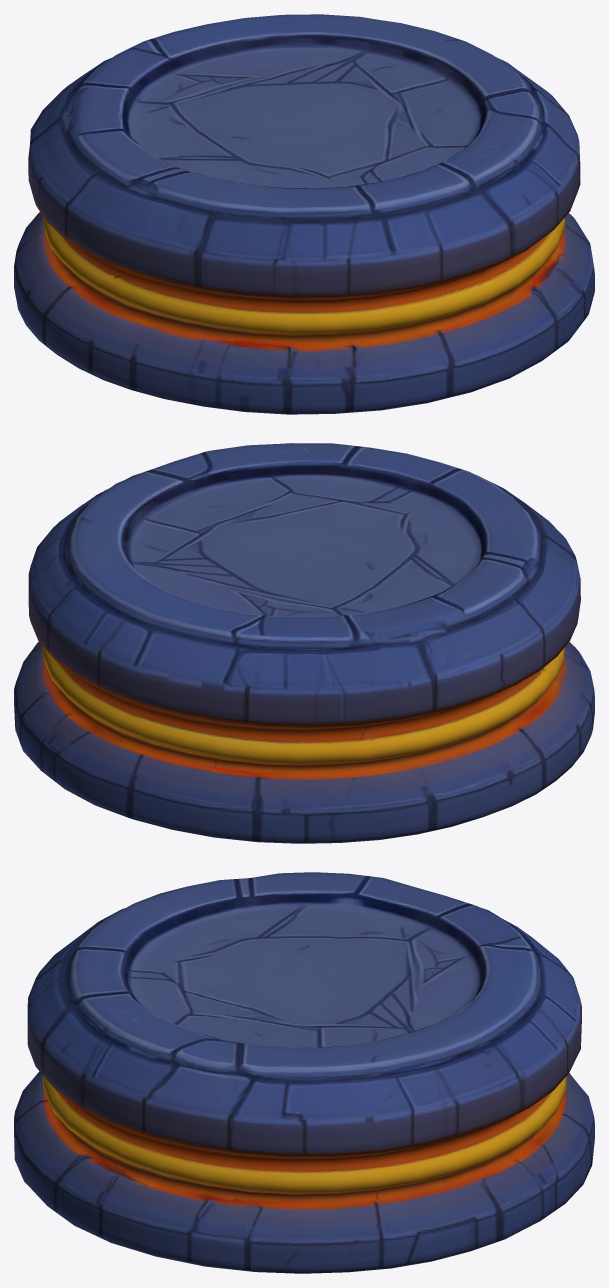
Rendered from plat_round_ROCK.obj.
The picture shows the model from 3 angles, top to bottom: view 1: azimuth 30°, elevation 25°; view 2: azimuth 150°, elevation 25°; view 3: azimuth 270°, elevation 25°; orthographic projection.
Visible parts, largest first — view 1: tripo_node_7f768d08-9728-4770-aa22-3355614af4c6; view 2: tripo_node_7f768d08-9728-4770-aa22-3355614af4c6; view 3: tripo_node_7f768d08-9728-4770-aa22-3355614af4c6.
Boxes of the visible parts, left/top/right/bottom form: tripo_node_7f768d08-9728-4770-aa22-3355614af4c6: left=14, top=14, right=594, bottom=414; tripo_node_7f768d08-9728-4770-aa22-3355614af4c6: left=14, top=443, right=594, bottom=843; tripo_node_7f768d08-9728-4770-aa22-3355614af4c6: left=14, top=872, right=594, bottom=1273.
Bounding box in the file's own units: 0.9977 × 0.4405 × 0.9973.
